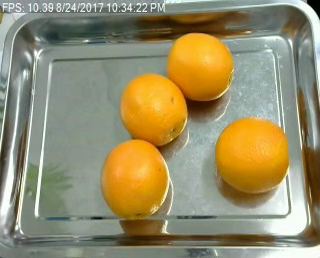Orange: (214, 116, 288, 192), (99, 137, 167, 217), (119, 74, 187, 146), (166, 33, 234, 101)
